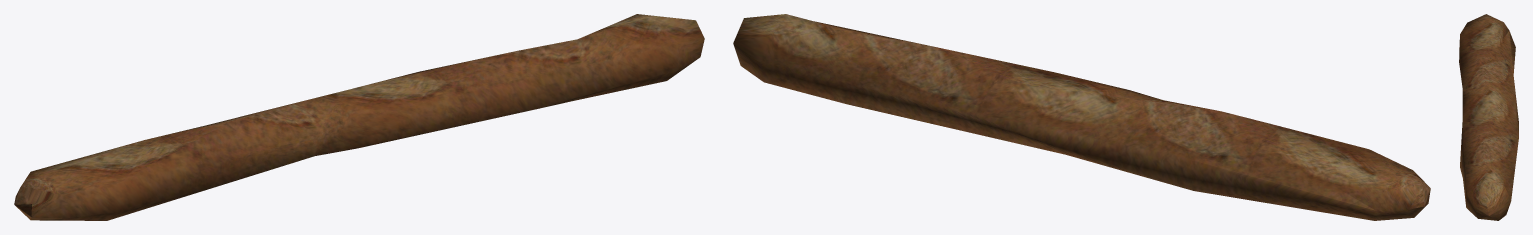
File: p_glo_bread_bgtte_lod0.glb
3 views of the same model, side by side, from view 1: azimuth 30°, elevation 25°; view 2: azimuth 150°, elevation 25°; view 3: azimuth 270°, elevation 25° (orthographic). The views are drawn at different scales.
Visible parts, largest first — view 1: surf0; view 2: surf0; view 3: surf0.
Boxes of the visible parts, x1=… form: surf0: x1=14, y1=14, x2=704, y2=220; surf0: x1=733, y1=14, x2=1430, y2=220; surf0: x1=1459, y1=14, x2=1518, y2=220.
Size of the model in its own units: 30.11 by 2.68 by 3.98.
